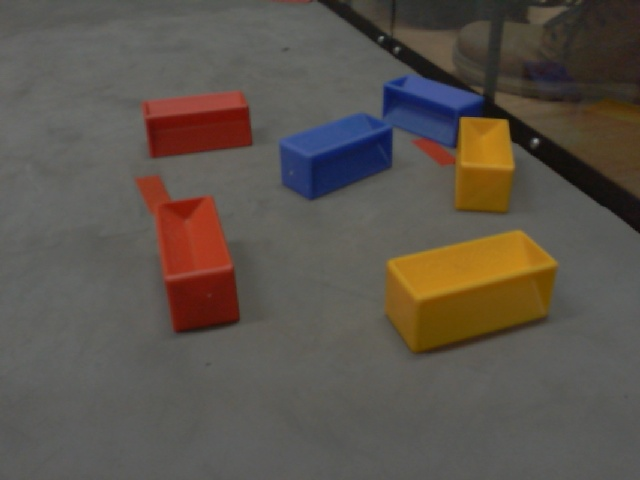BlueSample: (274, 111, 396, 201), (379, 71, 488, 151)
RedSample: (145, 192, 248, 340), (136, 90, 254, 160)
YellowSample: (380, 227, 562, 353), (446, 114, 518, 215)
